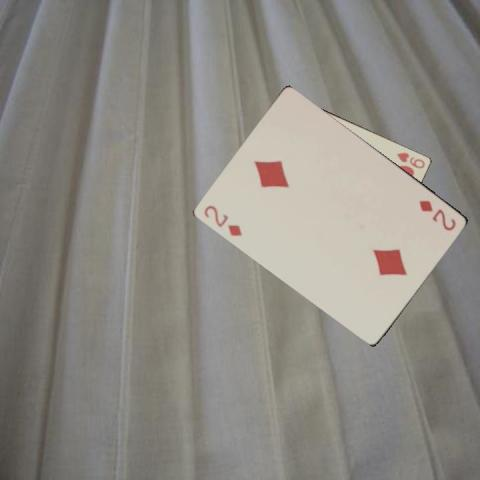2d: (201, 202, 244, 238), (416, 197, 458, 232)
9h: (394, 149, 427, 170)
